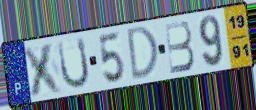5: (97, 30, 126, 85)
9: (199, 13, 227, 69)
B: (163, 19, 197, 76)
D: (126, 24, 160, 83)
U: (56, 35, 92, 91)
X: (21, 40, 65, 98)
